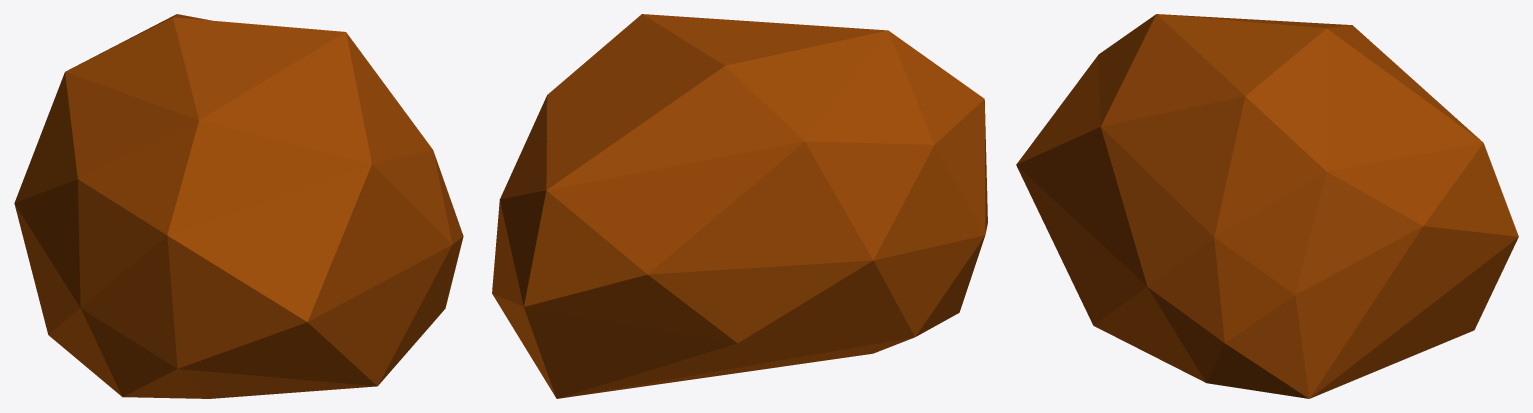
File: SM_Bush_01.fbx
The picture shows the model from 3 angles, left to right: view 1: azimuth 30°, elevation 25°; view 2: azimuth 150°, elevation 25°; view 3: azimuth 270°, elevation 25°; orthographic projection. The views are drawn at different scales.
Parts seen in each view (by area): view 1: SM_Bush_01; view 2: SM_Bush_01; view 3: SM_Bush_01.
Part boxes in pixels (x1=…): SM_Bush_01: x1=14, y1=14, x2=463, y2=398; SM_Bush_01: x1=492, y1=14, x2=987, y2=398; SM_Bush_01: x1=1016, y1=14, x2=1518, y2=398.
Size of the model in its own units: 263 by 176 by 304.
